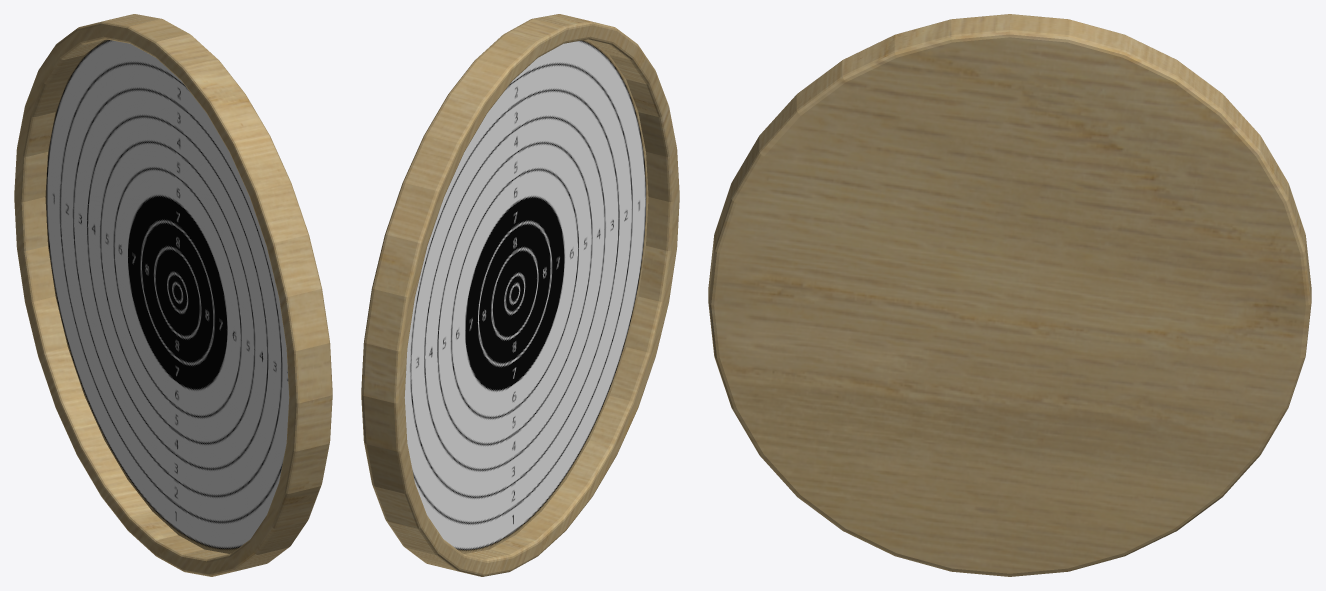
Rendered from Target board.fbx.
3 renders of one model, left to right at view 1: azimuth 30°, elevation 25°; view 2: azimuth 150°, elevation 25°; view 3: azimuth 270°, elevation 25°, orthographic. The views are drawn at different scales.
Visible parts, largest first — view 1: Cylinder; view 2: Cylinder; view 3: Cylinder.
Boxes of the visible parts, <box> form: Cylinder: <box>14,14,332,576</box>; Cylinder: <box>361,14,679,576</box>; Cylinder: <box>708,14,1311,576</box>.
Size of the model in its own units: 21.22 by 278 by 278.
Materials: 1 (1 with a texture image).
